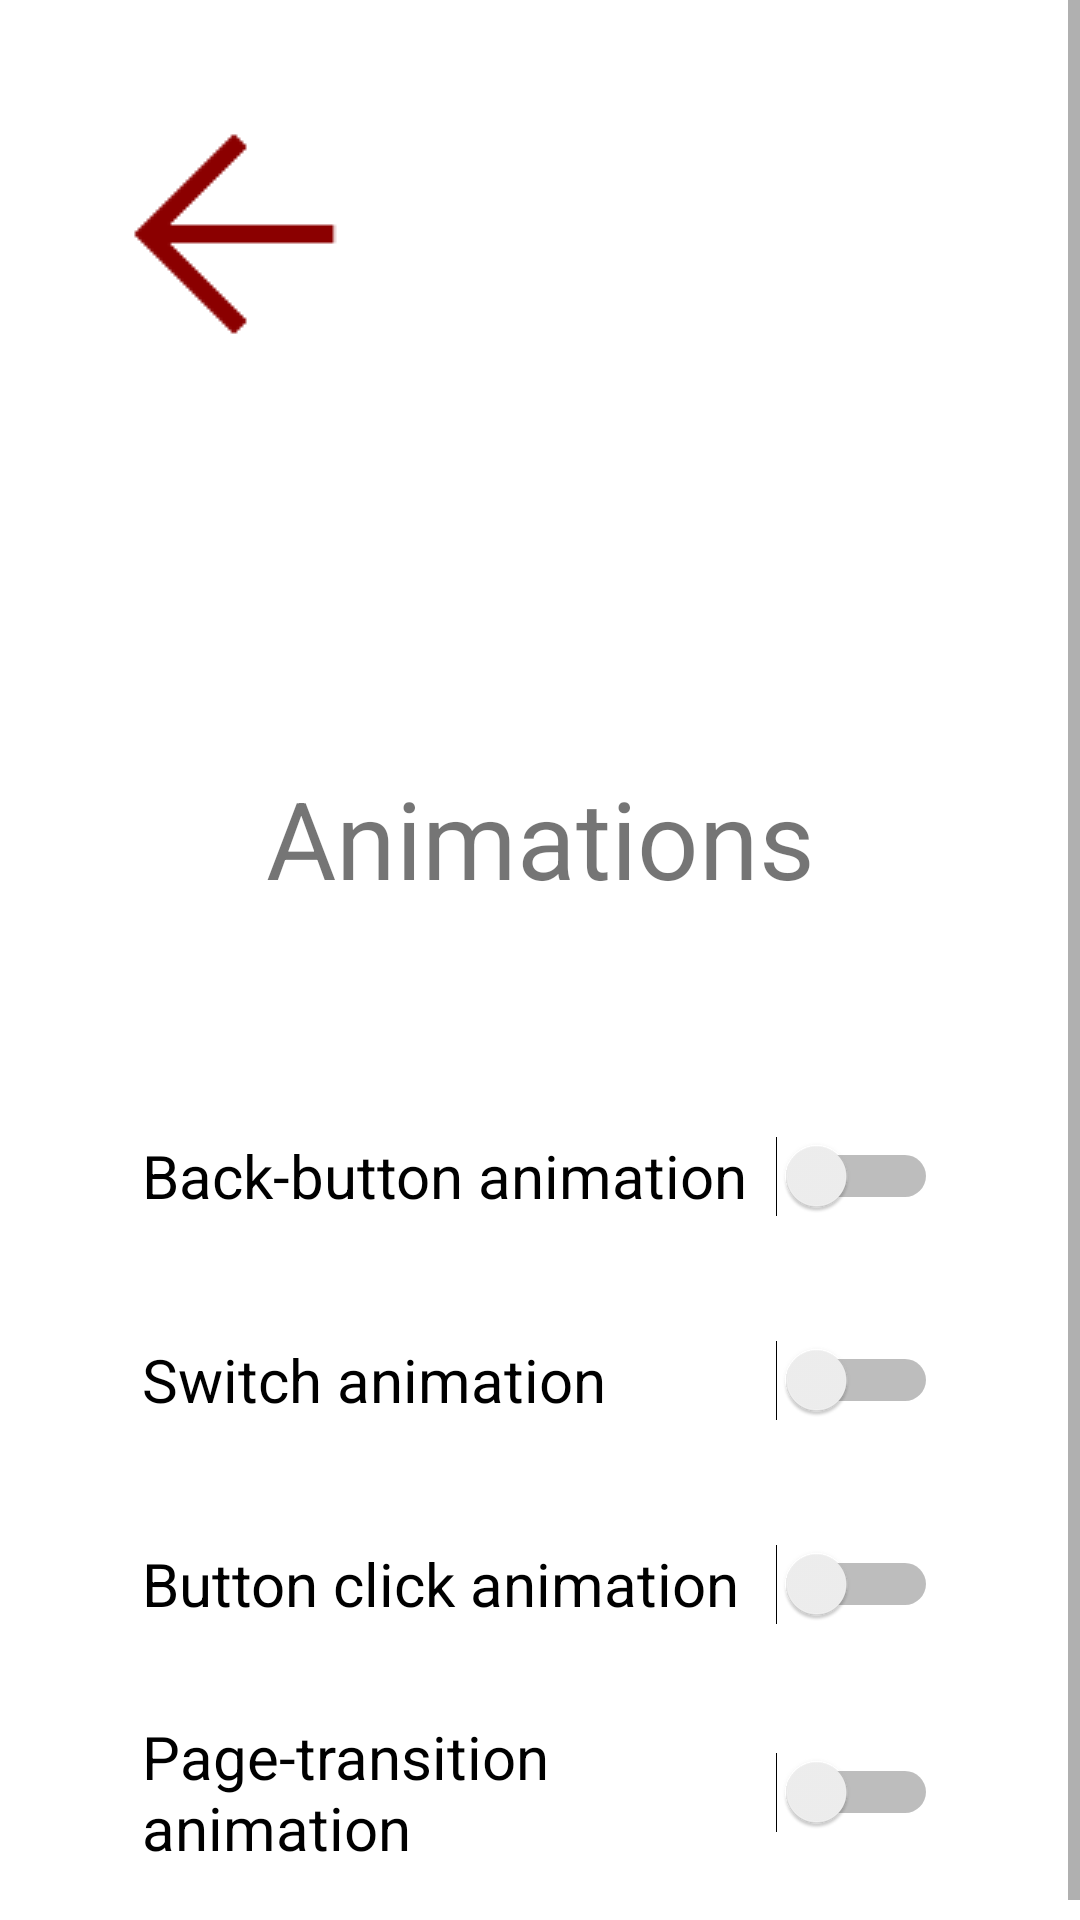

Icon bounding boxes for this 1080 × 1920 phone screenshot, format box(x1, y1, x2, y2):
arrowback: box(134, 134, 336, 334)
